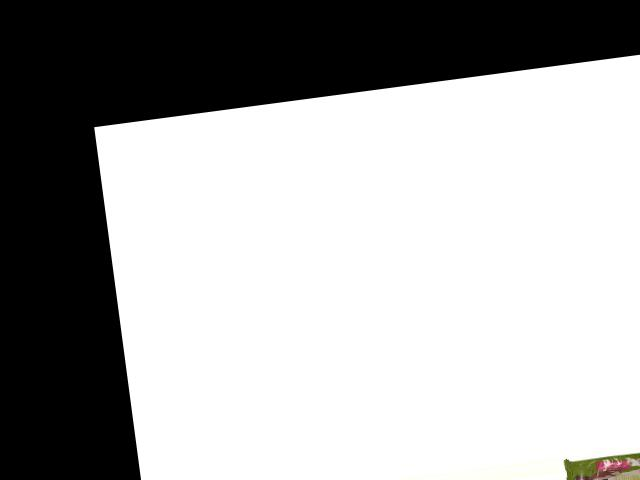chocolate: (562, 446, 640, 480)
